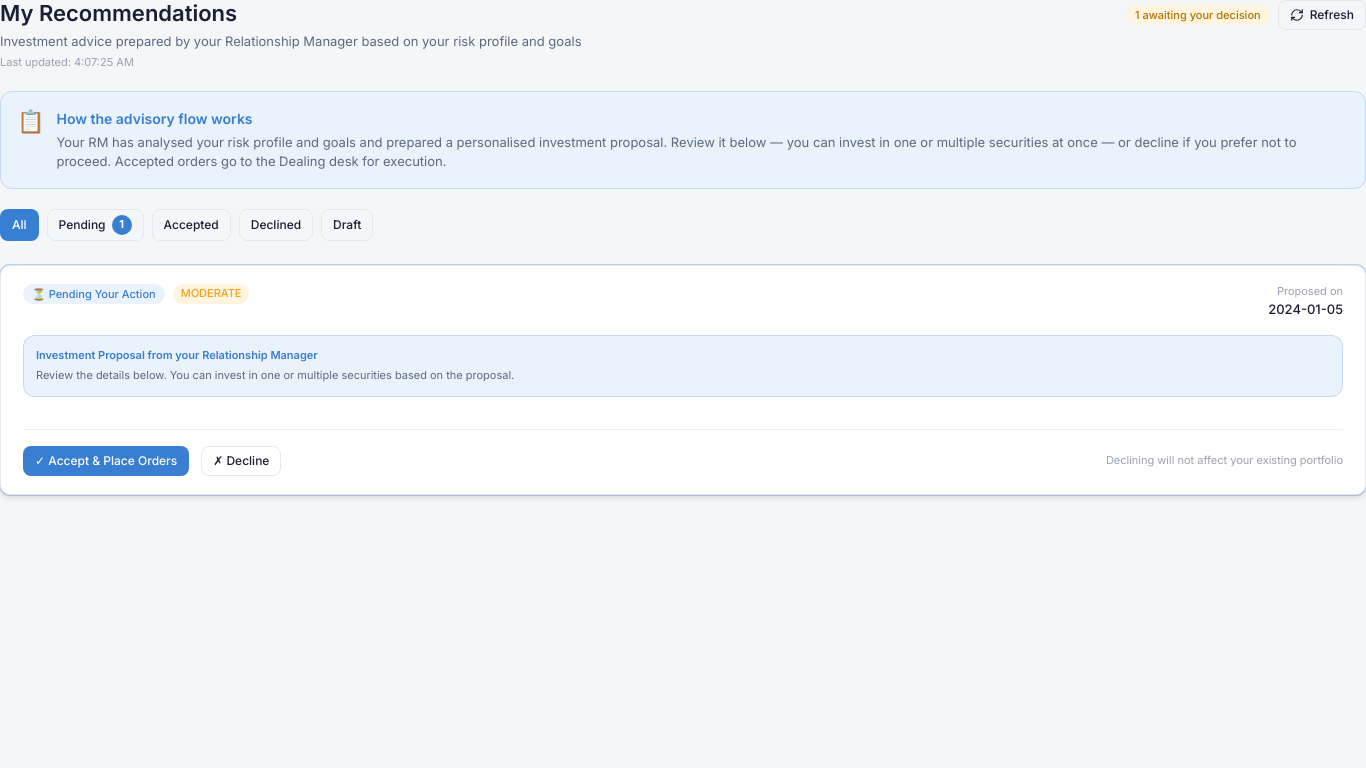
Client Recommendations page › opens Accept & Place Orders modal when button is clicked on SUBMITTED reco
What coordinates should you click on to do the following:
click the button "✓ Accept & Place Orders"
I would click on:
 (106, 461)
Its box is [23, 446, 189, 476].
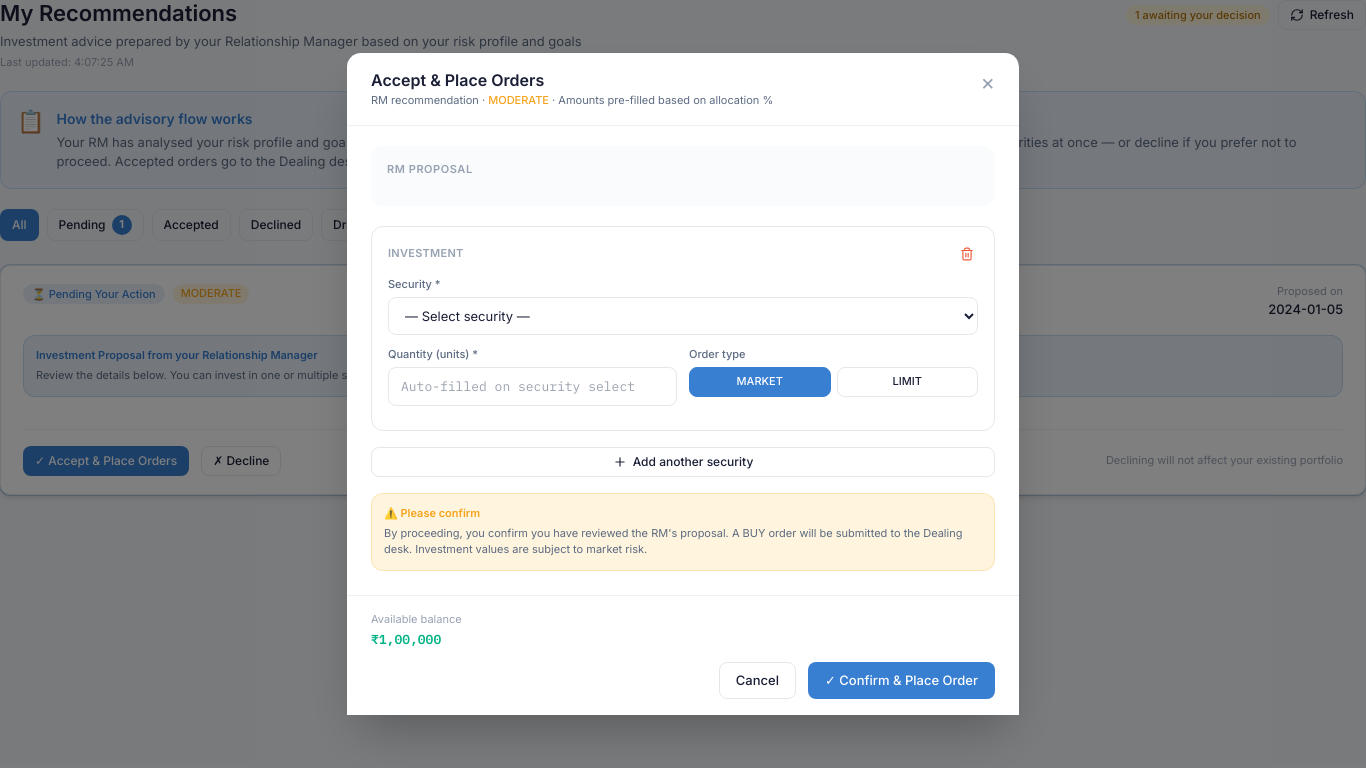
expect the text "RM Proposal" is shown: met, box [387, 162, 473, 176]
